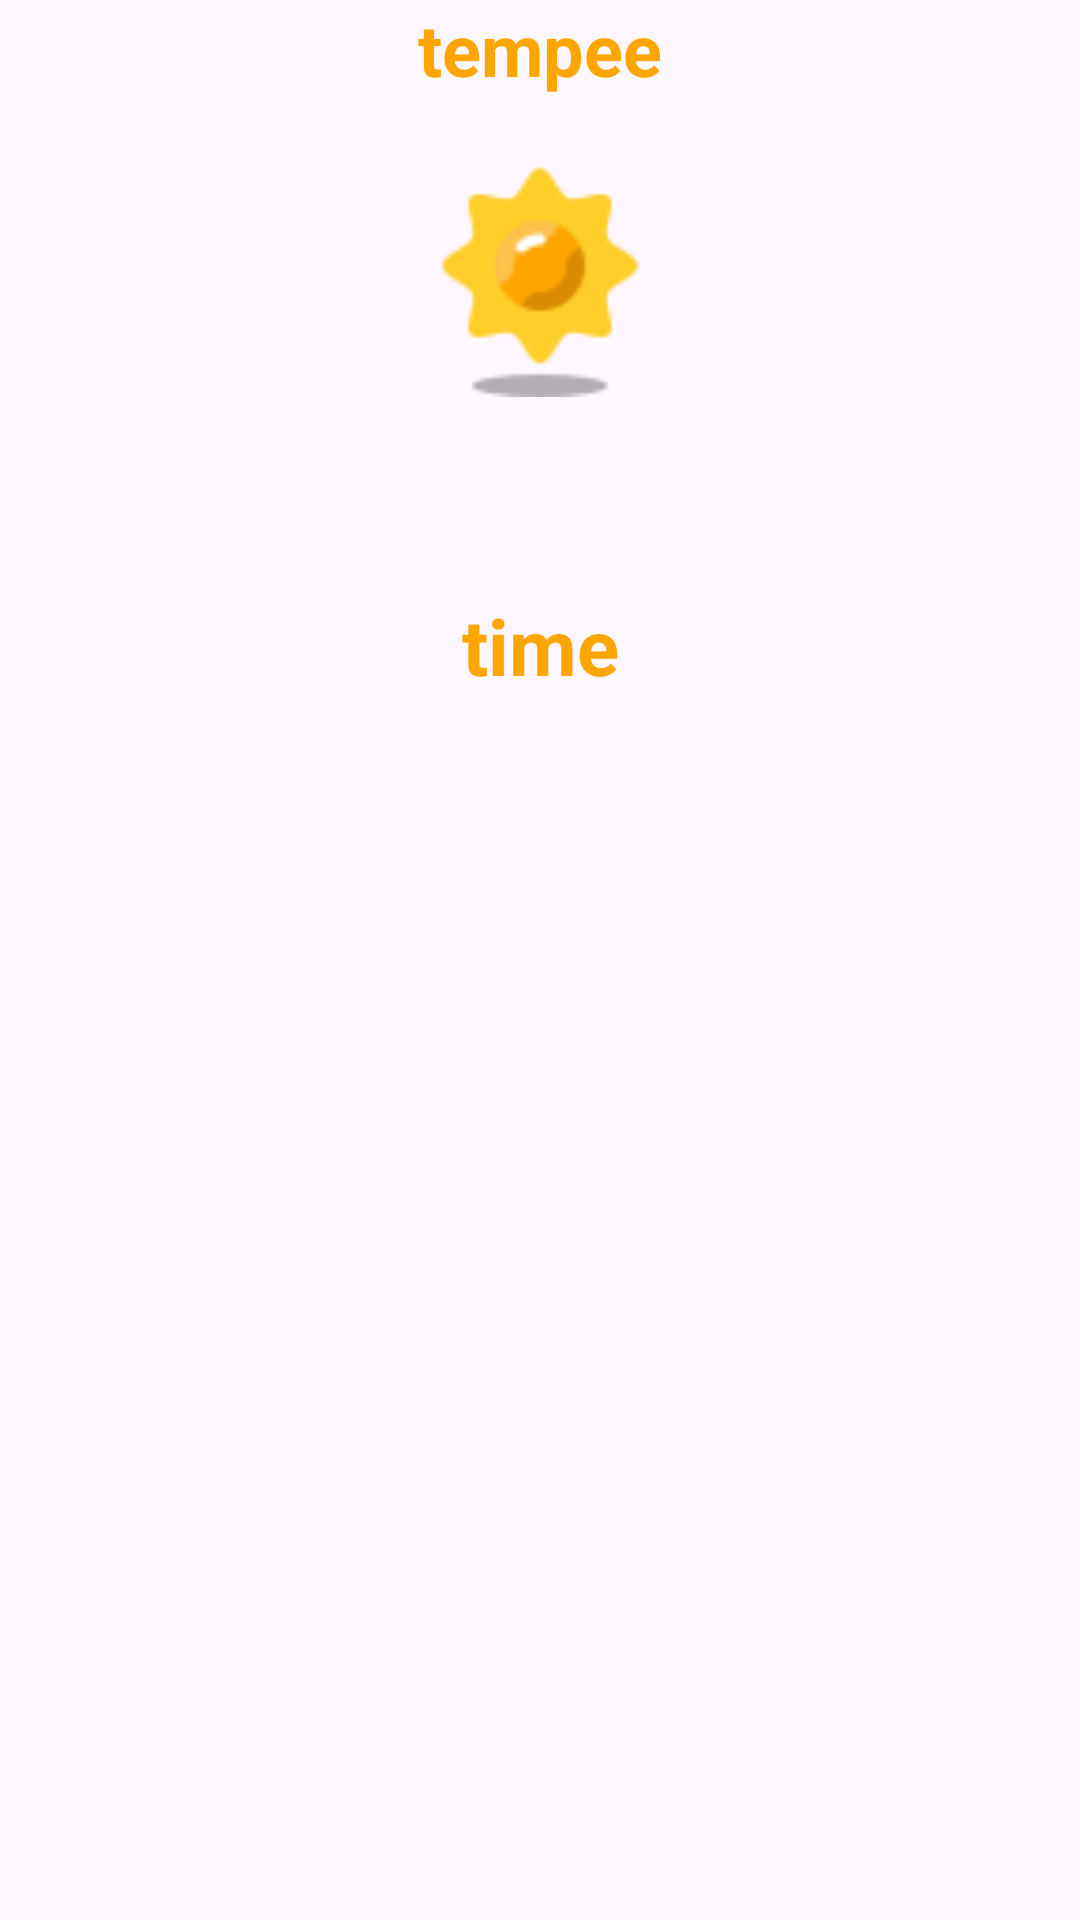

Icons on this 1080px×1920px Android screen, each with the point to tap as (x,y):
wth sun: (540,282)
